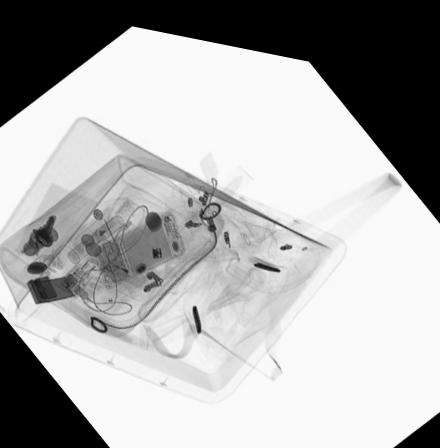Lighter: (95, 249, 147, 281)
